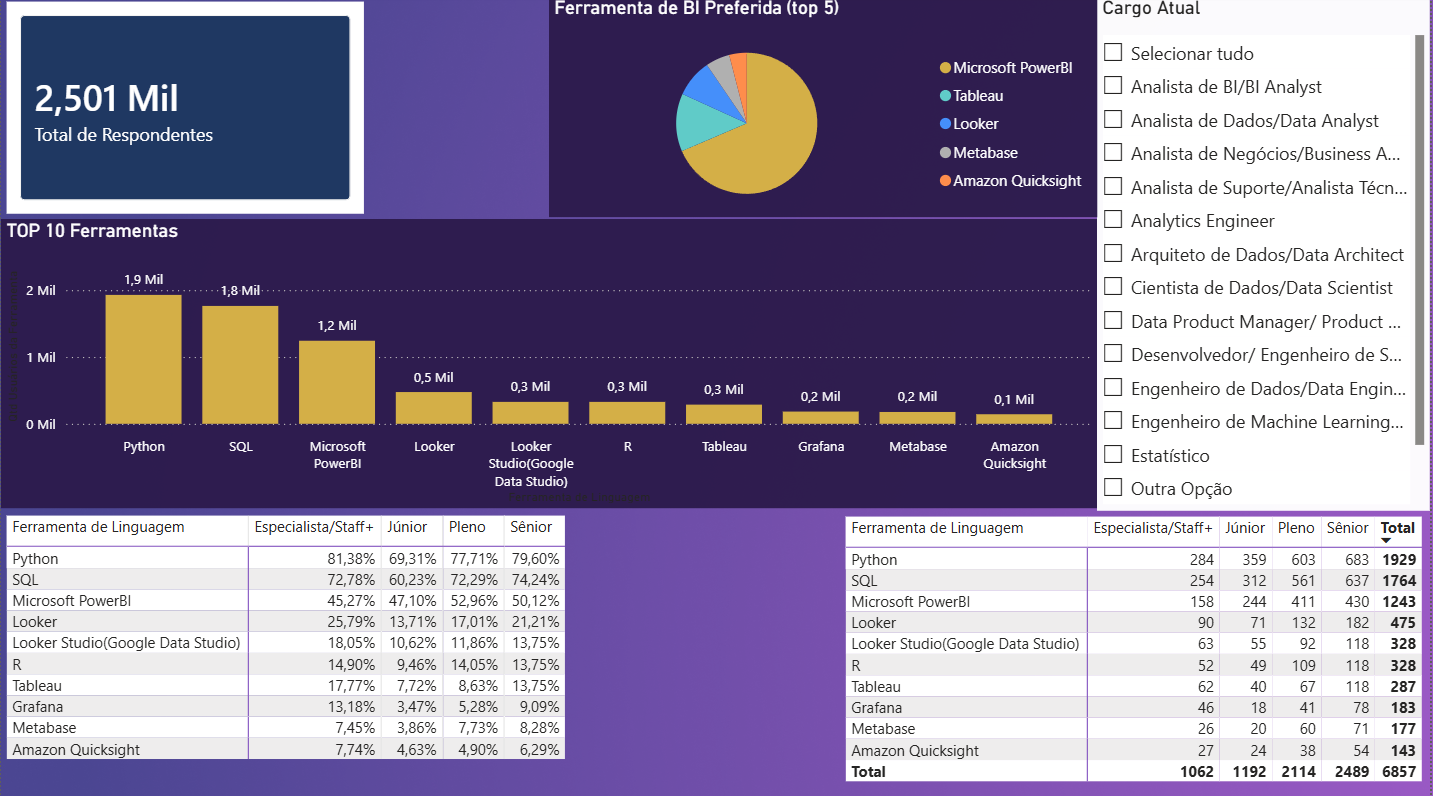

This screenshot's page, from the dashboard's own definition file:
{"tool":"powerbi","page":{"name":"Ferramentas e Stack","canvas":[1280,720],"ordinal":2},"visuals":[{"type":"cardVisual","fields":{"Data":["_Medidas.Total de Respondentes"]},"box":[0,0,330,200],"z":0},{"type":"columnChart","title":"TOP 10 Ferramentas","fields":{"Category":["fato_Ferramentas_Linguagens.Ferramenta de Linguagem"],"Y":["_Medidas.Qtd Usuários da Ferramenta"]},"box":[0,199.9,982.3,259.4],"z":1000},{"type":"pivotTable","fields":{"Rows":["fato_Ferramentas_Linguagens.Ferramenta de Linguagem"],"Columns":["Final Dataset - State of Data 2025-2026 - Kaggle.Senioridade"],"Values":["_Medidas.% Uso na Senioridade"]},"box":[0,460.3,514.6,259],"z":2000},{"type":"listSlicer","fields":{"Values":["Final Dataset - State of Data 2025-2026 - Kaggle.Cargo Atual"]},"box":[981.9,0,298.1,460.8],"z":3000},{"type":"pieChart","title":"Ferramenta de BI Preferida (top 5)","fields":{"Y":["CountNonNull(Final Dataset - State of Data 2025-2026 - Kaggle.Ferramenta de BI Preferida)"],"Category":["Final Dataset - State of Data 2025-2026 - Kaggle.Ferramenta de BI Preferida"]},"box":[491.2,0,491.2,198],"z":4000},{"type":"pivotTable","fields":{"Rows":["fato_Ferramentas_Linguagens.Ferramenta de Linguagem"],"Columns":["Final Dataset - State of Data 2025-2026 - Kaggle.Senioridade"],"Values":["_Medidas.Qtd Usuários da Ferramenta"]},"box":[751.2,460.8,528.8,259.5],"z":5000}]}

Visuals, with their boxes in screenshot pixels (x1, y1, x2, y2), scaled from the page's 1280x720 canvas onto the 1433x796 screenshot:
cardVisual - _Medidas.Total de Respondentes: select_region(0, 0, 369, 221)
"TOP 10 Ferramentas" columnChart: select_region(0, 221, 1100, 508)
pivotTable - fato_Ferramentas_Linguagens.Ferramenta de Linguagem x Final Dataset - State of Data 2025-2026 - Kaggle.Senioridade: select_region(0, 509, 576, 795)
listSlicer - Final Dataset - State of Data 2025-2026 - Kaggle.Cargo Atual: select_region(1099, 0, 1432, 509)
"Ferramenta de BI Preferida (top 5)" pieChart: select_region(550, 0, 1100, 219)
pivotTable - fato_Ferramentas_Linguagens.Ferramenta de Linguagem x Final Dataset - State of Data 2025-2026 - Kaggle.Senioridade: select_region(841, 509, 1432, 795)
